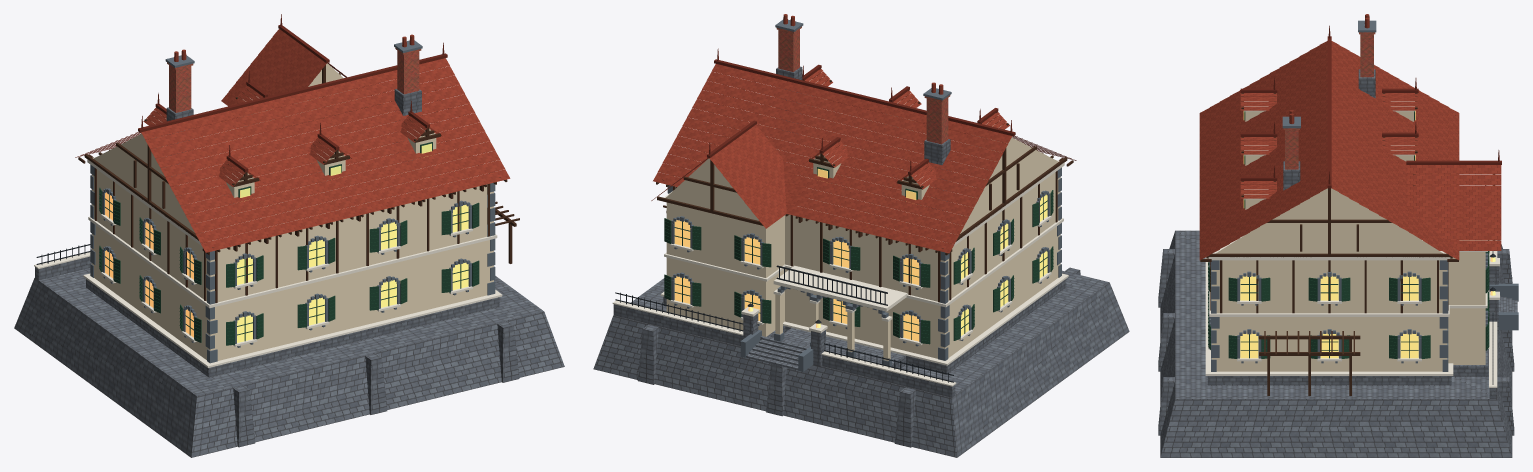
The model's file is fv_nvt_08_nguyen_van_troi_12_colonial_avenue_villa.glb.
3 views of the same model, side by side, from view 1: azimuth 30°, elevation 25°; view 2: azimuth 150°, elevation 25°; view 3: azimuth 270°, elevation 25° (orthographic). The views are drawn at different scales.
Visible parts, largest first — view 1: Foundation_Skirt_Neg3p5m, Normandy_Brittany_Layered_Roof, Villa_Stucco_Walls, Molded_Cornices_And_Sills, PineGreen_Louvered_Shutters, Stone_Quoins_And_Arches, Exposed_Timber_Trusses_And_Rafters, Warm_Night_Windows_20h00_Blend, Roof_Ridges_Caps_And_Finials, Brick_Chimney_Stacks; view 2: Foundation_Skirt_Neg3p5m, Normandy_Brittany_Layered_Roof, Villa_Stucco_Walls, Molded_Cornices_And_Sills, Stone_Quoins_And_Arches, PineGreen_Louvered_Shutters, Exposed_Timber_Trusses_And_Rafters, Warm_Night_Windows_20h00_Blend, Roof_Ridges_Caps_And_Finials, Wrought_Iron_Balustrades_And_Gate, Brick_Chimney_Stacks; view 3: Normandy_Brittany_Layered_Roof, Foundation_Skirt_Neg3p5m, Villa_Stucco_Walls, Molded_Cornices_And_Sills, Exposed_Timber_Trusses_And_Rafters, Stone_Quoins_And_Arches, PineGreen_Louvered_Shutters, Warm_Night_Windows_20h00_Blend, Roof_Ridges_Caps_And_Finials, Brick_Chimney_Stacks.
Part boxes in pixels (x1,y1,x2,y2): Foundation_Skirt_Neg3p5m: [14, 89, 564, 457]; Normandy_Brittany_Layered_Roof: [141, 29, 510, 252]; Villa_Stucco_Walls: [91, 63, 493, 360]; Molded_Cornices_And_Sills: [34, 95, 502, 367]; PineGreen_Louvered_Shutters: [99, 142, 479, 345]; Stone_Quoins_And_Arches: [90, 40, 495, 363]; Exposed_Timber_Trusses_And_Rafters: [78, 65, 519, 302]; Warm_Night_Windows_20h00_Blend: [105, 143, 468, 342]; Roof_Ridges_Caps_And_Finials: [75, 14, 447, 180]; Brick_Chimney_Stacks: [167, 48, 421, 112]; Foundation_Skirt_Neg3p5m: [593, 66, 1129, 457]; Normandy_Brittany_Layered_Roof: [653, 14, 1012, 253]; Villa_Stucco_Walls: [665, 95, 1060, 360]; Molded_Cornices_And_Sills: [612, 79, 1068, 386]; Stone_Quoins_And_Arches: [667, 19, 1061, 371]; PineGreen_Louvered_Shutters: [664, 167, 1053, 344]; Exposed_Timber_Trusses_And_Rafters: [656, 68, 1073, 302]; Warm_Night_Windows_20h00_Blend: [674, 168, 1047, 341]; Roof_Ridges_Caps_And_Finials: [651, 48, 1076, 200]; Wrought_Iron_Balustrades_And_Gate: [615, 265, 953, 382]; Brick_Chimney_Stacks: [776, 26, 950, 144]; Normandy_Brittany_Layered_Roof: [1199, 14, 1501, 260]; Foundation_Skirt_Neg3p5m: [1158, 69, 1517, 457]; Villa_Stucco_Walls: [1211, 111, 1485, 371]; Molded_Cornices_And_Sills: [1205, 101, 1499, 387]; Exposed_Timber_Trusses_And_Rafters: [1200, 93, 1494, 395]; Stone_Quoins_And_Arches: [1209, 20, 1518, 371]; PineGreen_Louvered_Shutters: [1208, 111, 1489, 358]; Warm_Night_Windows_20h00_Blend: [1240, 110, 1495, 358]; Roof_Ridges_Caps_And_Finials: [1240, 25, 1501, 188]; Brick_Chimney_Stacks: [1283, 32, 1375, 169].
Bounding box in the file's own units: 26.32 × 20.3 × 21.72.
Materials: 12 (3 with a texture image).
